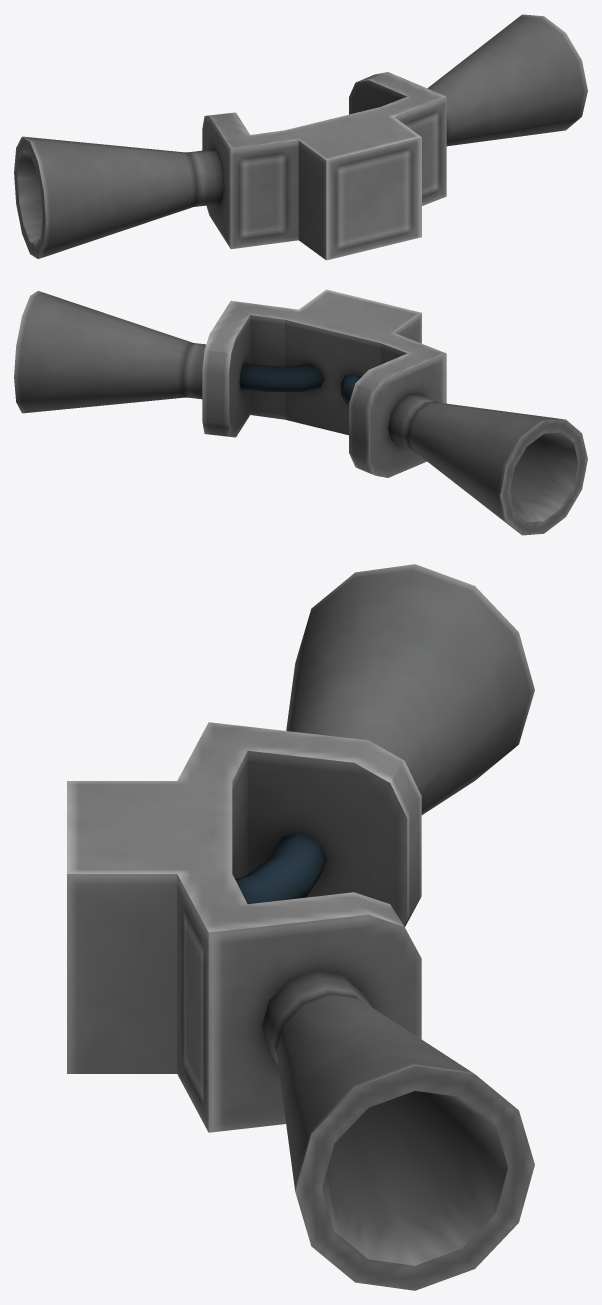
Rendered from horizontal.obj.
3 renders of one model, top to bottom at view 1: azimuth 30°, elevation 25°; view 2: azimuth 150°, elevation 25°; view 3: azimuth 270°, elevation 25°, orthographic. The views are drawn at different scales.
Parts seen in each view (by area): view 1: h; view 2: h; view 3: h.
Part boxes in pixels (x1,y1,x2,y2): h: (14, 14, 587, 260); h: (14, 289, 587, 535); h: (67, 564, 534, 1290).
Size of the model in its own units: 0.5672 by 0.1125 by 0.2121.
Materials: 1 (1 with a texture image).
